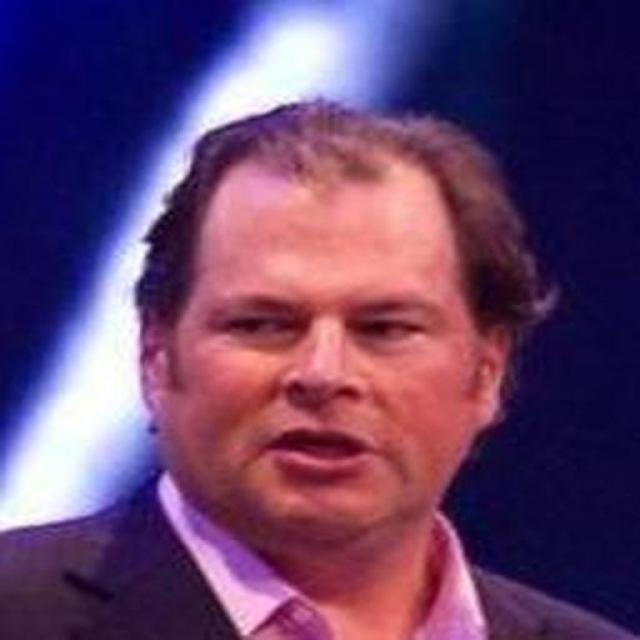bareface: (104, 104, 556, 556)
